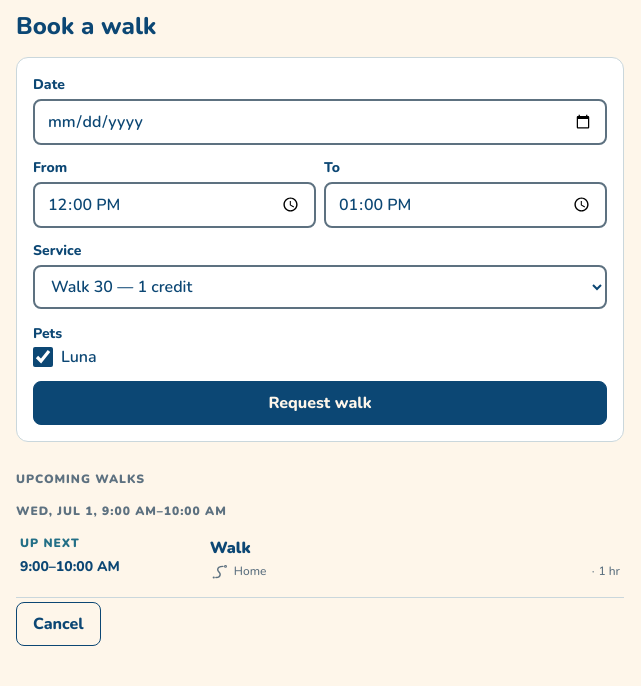
Booking · credits already booked › falls back to the live formula for a walk with no snapshot
Type "2026-07-02" into the date field labelled "Date" at (320,122), box [33,99,607,145]
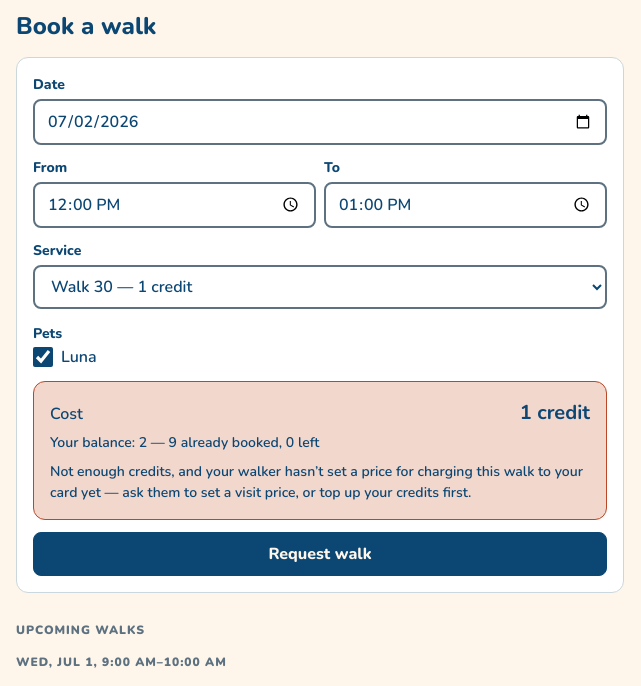
Result: the text "Cost" is shown at [50,402,83,426]
Result: the text "Your balance: 2 — 9 already booked, 0 left" is shown at [50,433,319,452]
Result: the element with class "booking-cost--overage" is shown at [33,381,607,520]
